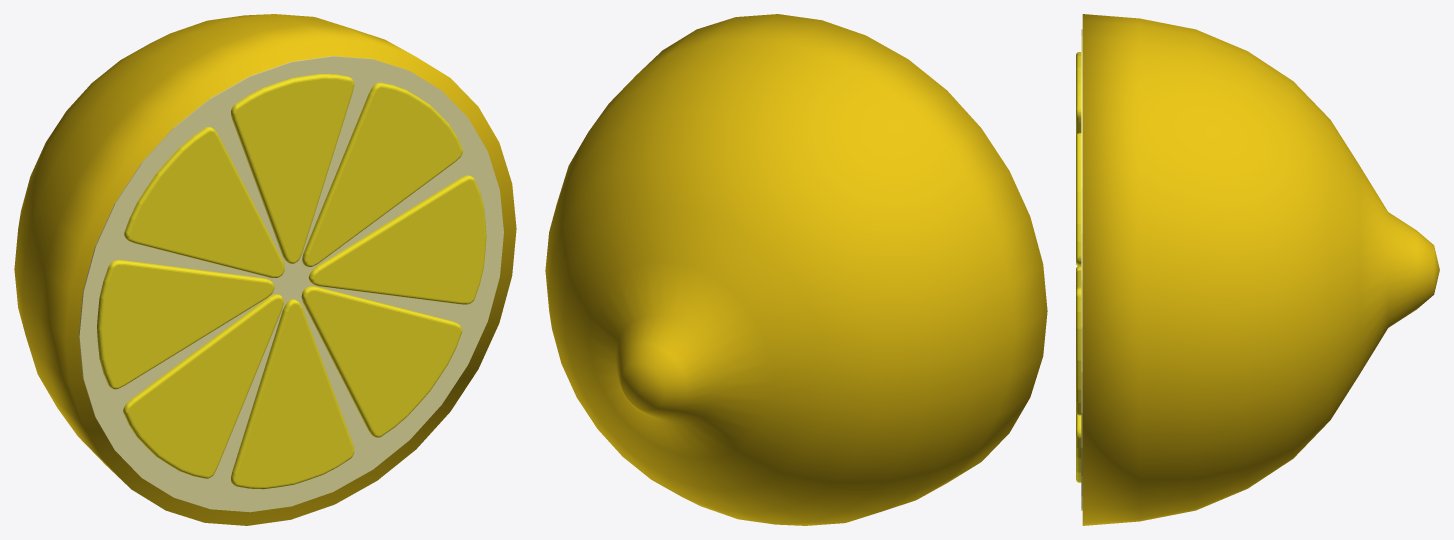
Rendered from Zitrone_halb.fbx.
The picture shows the model from 3 angles, left to right: view 1: azimuth 30°, elevation 25°; view 2: azimuth 150°, elevation 25°; view 3: azimuth 270°, elevation 25°; orthographic projection.
Visible parts, largest first — view 1: Sphere.006, Sphere.005, Plane.006, Plane.001, Plane, Plane.003, Plane.005, Plane.004, Plane.002, Plane.007; view 2: Sphere.006; view 3: Sphere.006, Sphere.005, Plane.004, Plane.001, Plane.
Part boxes in pixels (left/top/right/bottom): Sphere.006: left=14, top=14, right=516, bottom=525; Sphere.005: left=79, top=56, right=503, bottom=512; Plane.006: left=123, top=294, right=283, bottom=478; Plane.001: left=302, top=82, right=462, bottom=266; Plane: left=231, top=74, right=354, bottom=263; Plane.003: left=97, top=260, right=274, bottom=389; Plane.005: left=231, top=299, right=354, bottom=489; Plane.004: left=308, top=175, right=486, bottom=304; Plane.002: left=301, top=286, right=462, bottom=437; Plane.007: left=124, top=127, right=284, bottom=277; Sphere.006: left=545, top=14, right=1047, bottom=525; Sphere.006: left=1082, top=14, right=1439, bottom=525; Sphere.005: left=1081, top=29, right=1082, bottom=510; Plane.004: left=1076, top=270, right=1081, bottom=415; Plane.001: left=1076, top=133, right=1081, bottom=266; Plane: left=1076, top=52, right=1081, bottom=135.
Size of the model in its own units: 204 by 204 by 145.
